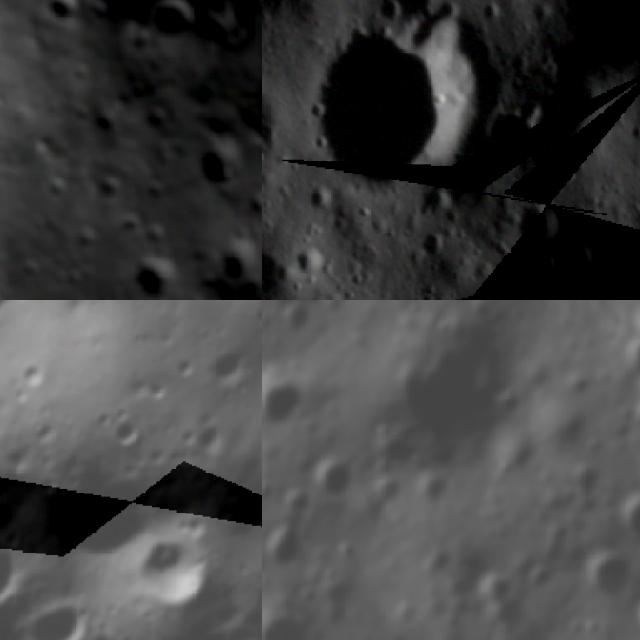crater: (288, 0, 477, 206), (104, 512, 224, 623), (180, 125, 261, 209), (475, 104, 548, 188), (117, 242, 194, 300), (262, 355, 314, 440), (574, 539, 640, 605), (25, 588, 104, 640), (133, 0, 204, 54), (302, 446, 364, 506), (0, 523, 37, 622), (501, 191, 559, 253), (262, 513, 316, 579), (207, 233, 262, 296), (262, 592, 329, 640), (547, 230, 602, 286), (361, 458, 418, 512), (202, 337, 256, 393), (412, 459, 466, 515), (27, 0, 93, 41), (189, 8, 240, 59), (103, 406, 149, 456), (268, 300, 322, 342), (603, 331, 640, 392), (607, 487, 640, 553), (276, 480, 320, 524), (134, 102, 178, 145), (386, 595, 424, 636), (247, 426, 262, 489), (287, 300, 342, 316), (515, 289, 562, 300)
